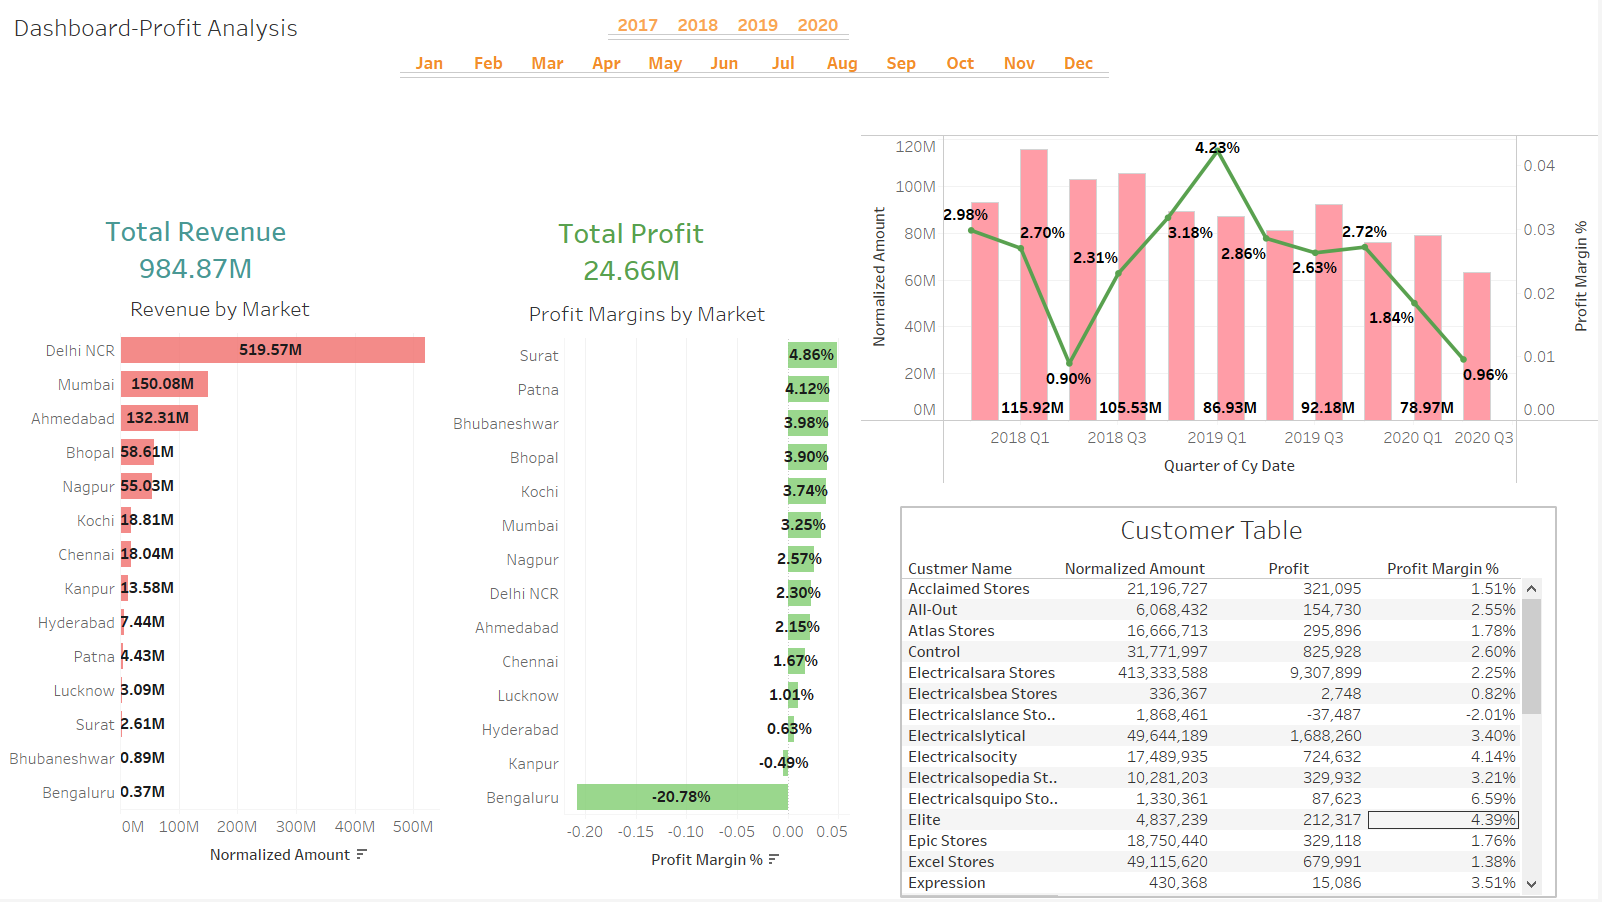

The dashboard page shown, as its layout file describes it:
{"tool":"tableau","page":{"name":"Dashboard-Profit Analysis","canvas":[1600,900],"ordinal":0},"visuals":[{"type":"worksheet","title":"Year","mark":"Automatic","cols":["cy_date"],"box":[610,15,241,50]},{"type":"worksheet","title":"Month","mark":"Automatic","cols":["cy_date"],"box":[402,53,721,40]},{"type":"worksheet","title":"Profit Trend","mark":"Bar","rows":["Calculation_1045398112552312832","Calculation_126382313844473858"],"cols":["cy_date"],"box":[863,136,738,349]},{"type":"worksheet","title":"Revenue","mark":"Automatic","box":[98,213,227,102]},{"type":"worksheet","title":"Profit","mark":"Automatic","box":[554,215,162,81]},{"type":"worksheet","title":"Revenue by Market","mark":"Automatic","rows":["markets_name"],"cols":["Calculation_1045398112552312832"],"box":[2,291,440,606]},{"type":"worksheet","title":"Profit Margins by Market","mark":"Automatic","rows":["markets_name"],"cols":["Calculation_126382313844473858"],"box":[446,296,406,602]},{"type":"worksheet","title":"Customer Table","mark":"Automatic","rows":["custmer_name"],"box":[904,509,653,388]}]}

Visuals, with their boxes in screenshot pixels (x1, y1, x2, y2), scaled from the page's 1600x900 canvas onto the 1602x902 screenshot:
"Year" worksheet: bbox=(611, 15, 852, 65)
"Month" worksheet: bbox=(403, 53, 1124, 93)
"Profit Trend" worksheet (Bar marks): bbox=(864, 136, 1601, 486)
"Revenue" worksheet: bbox=(98, 213, 325, 316)
"Profit" worksheet: bbox=(555, 215, 717, 297)
"Revenue by Market" worksheet: bbox=(2, 292, 443, 899)
"Profit Margins by Market" worksheet: bbox=(447, 297, 853, 900)
"Customer Table" worksheet: bbox=(905, 510, 1559, 899)
